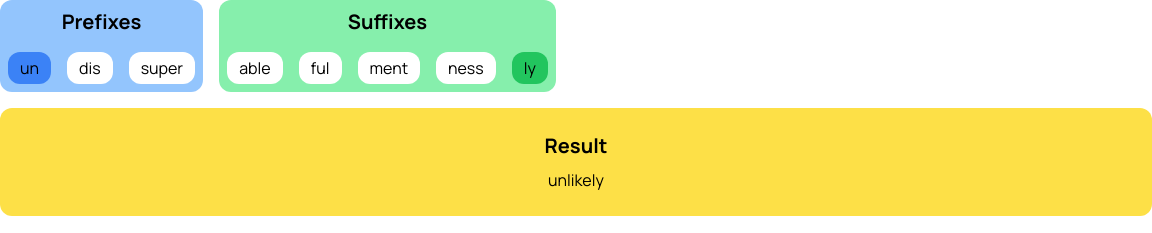
JFlatList › changes the word when prefixes and suffixes are deselected and selected
The image size is (1152, 233).
Click the button "un".
click(30, 68)  # box [8, 52, 51, 84]
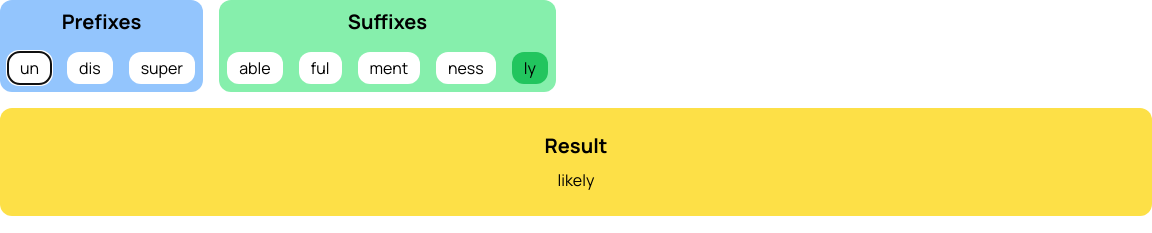
expect the text "likely" is shown: met, box [558, 169, 594, 191]
Click the button "ly".
click(530, 68)  # box [512, 52, 548, 84]
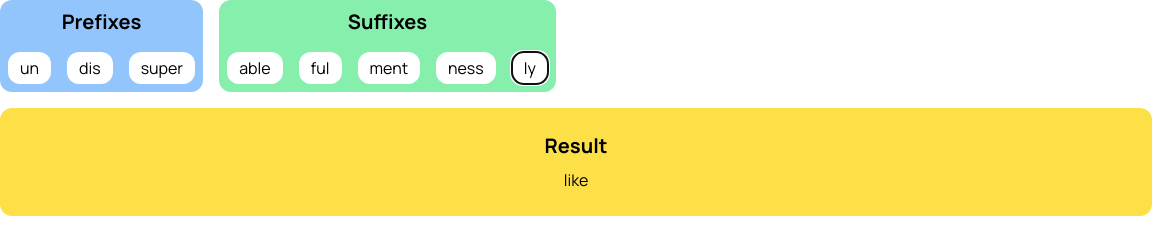
expect the text "like" is shown: met, box [564, 169, 588, 191]
Click the button "able".
click(255, 68)  # box [227, 52, 283, 84]
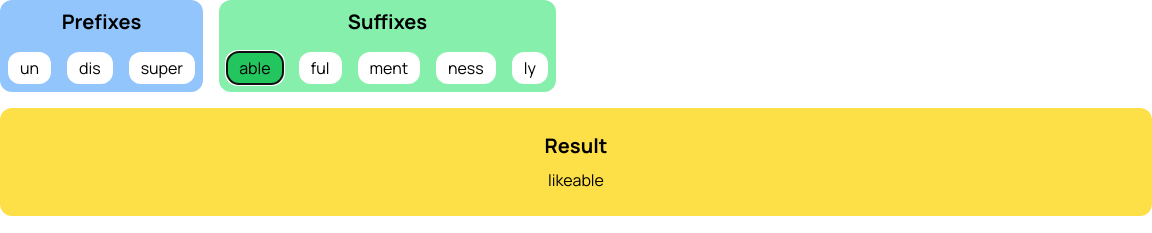
expect the text "likeable" is shown: met, box [548, 169, 604, 191]
Click the button "super".
click(162, 68)  # box [129, 52, 195, 84]
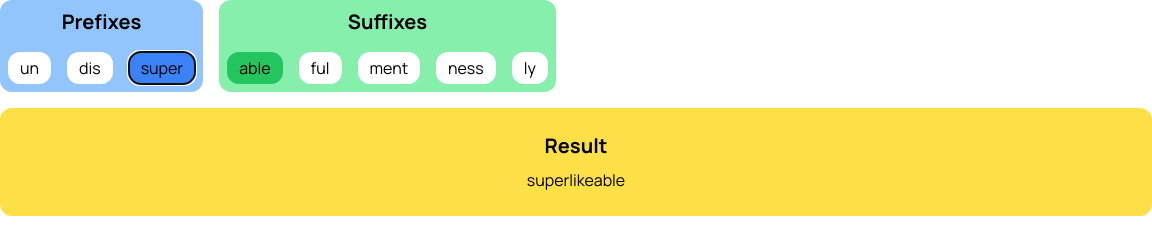
expect the text "superlikeable" is shown: met, box [527, 169, 625, 191]
Click the button "ness".
click(466, 68)  # box [436, 52, 496, 84]
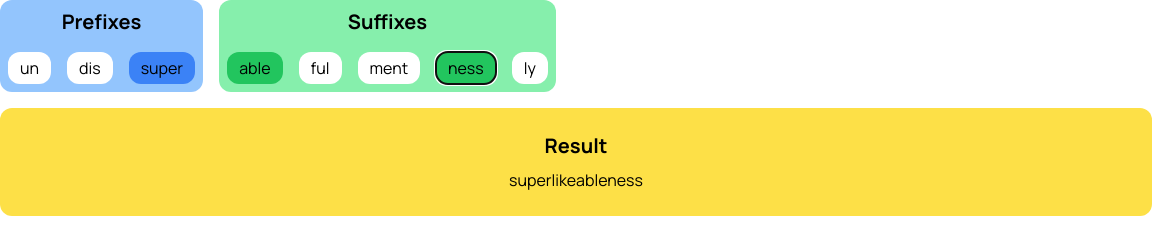
expect the text "superlikeableness" is shown: met, box [509, 169, 643, 191]
Click the button "un".
click(30, 68)  # box [8, 52, 51, 84]
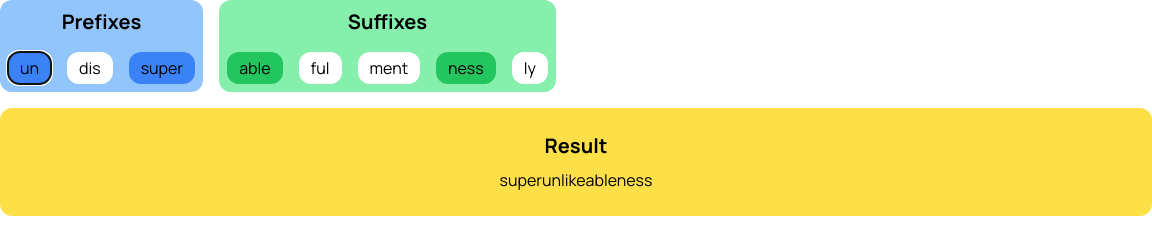
expect the text "superunlikeableness" is shown: met, box [500, 169, 652, 191]
